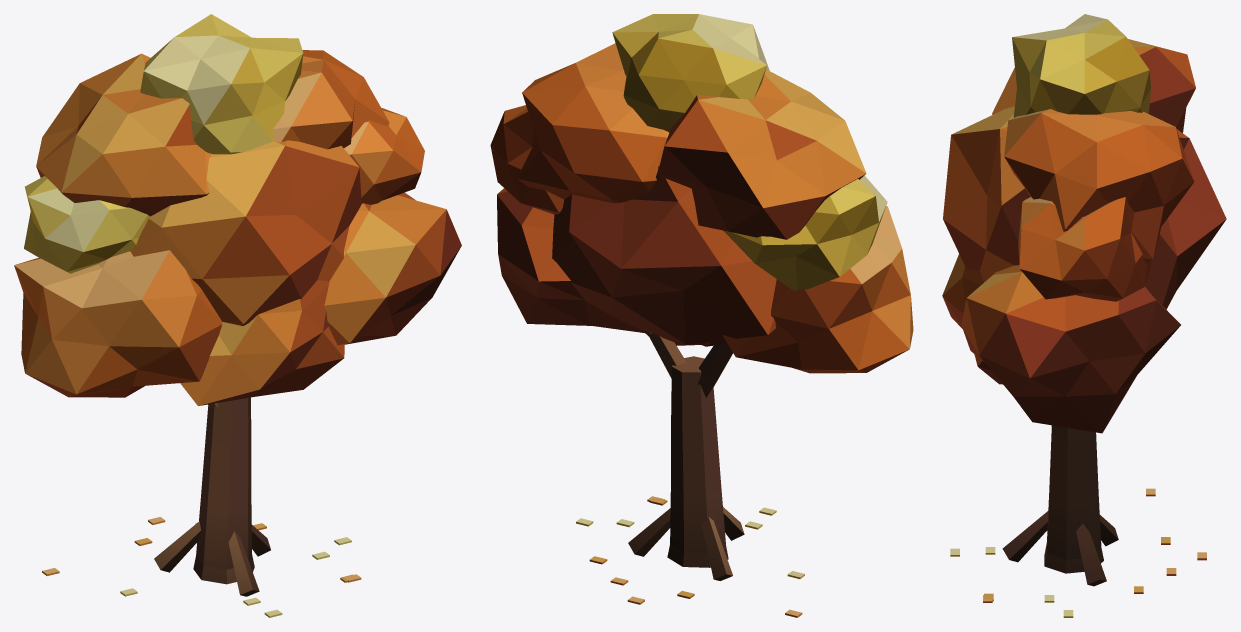
File: tree_autumn.glb
3 views of the same model, side by side, from view 1: azimuth 30°, elevation 25°; view 2: azimuth 150°, elevation 25°; view 3: azimuth 270°, elevation 25° (orthographic).
Visible parts, largest first — view 1: tree_autumn; view 2: tree_autumn; view 3: tree_autumn.
Part boxes in pixels (x1,y1,x2,y2): tree_autumn: [14, 14, 461, 617]; tree_autumn: [490, 14, 913, 617]; tree_autumn: [942, 14, 1226, 617].
Size of the model in its own units: 2 by 2.44 by 1.18.
